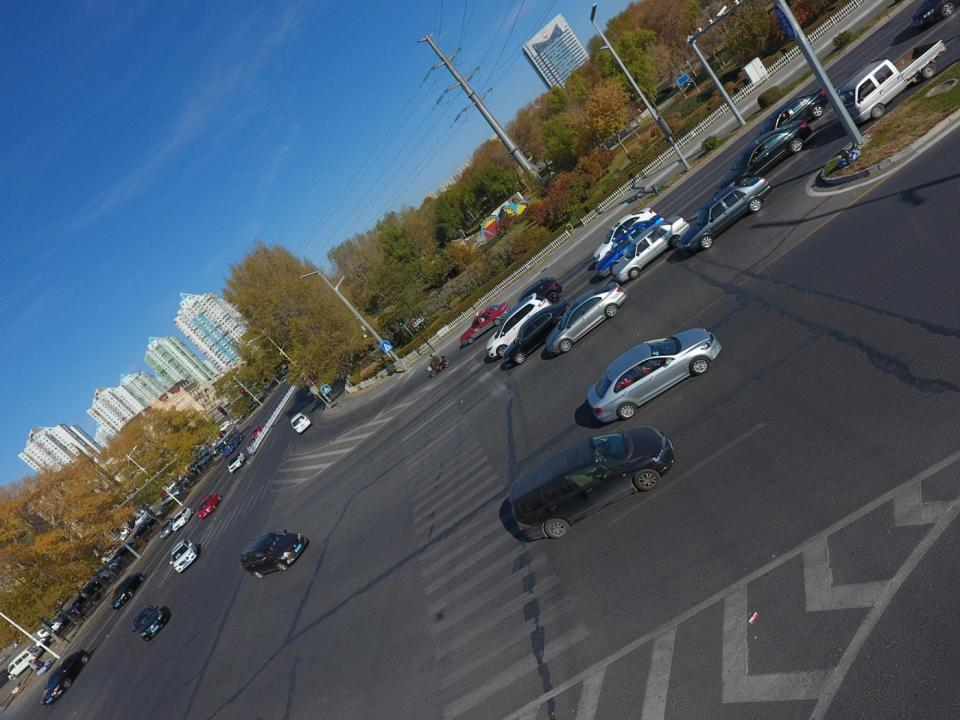bus: (214, 427, 244, 459), (302, 353, 326, 388), (189, 448, 214, 472)
car: (587, 328, 722, 422), (679, 176, 773, 253), (717, 120, 812, 194), (545, 281, 626, 353), (612, 217, 692, 282), (755, 89, 830, 149), (595, 215, 666, 277), (502, 300, 570, 364), (487, 294, 552, 357), (594, 206, 657, 262), (240, 531, 306, 579), (502, 276, 564, 324), (41, 648, 88, 708), (460, 301, 510, 345), (132, 603, 166, 642), (110, 573, 144, 610), (170, 538, 200, 573), (71, 578, 105, 606), (109, 538, 139, 562), (37, 618, 67, 640), (31, 632, 58, 654), (198, 493, 221, 518), (132, 518, 160, 538), (84, 569, 116, 586), (172, 506, 194, 530), (95, 558, 120, 579), (142, 509, 162, 528), (160, 518, 177, 539), (228, 453, 246, 472), (161, 490, 182, 505), (114, 528, 130, 542), (252, 424, 265, 439), (136, 511, 148, 526), (113, 534, 126, 547), (218, 422, 230, 432), (233, 415, 245, 424), (245, 402, 254, 412), (282, 376, 289, 382)
truck: (839, 40, 947, 123)
van: (507, 428, 676, 540), (8, 644, 40, 681), (291, 412, 311, 433), (170, 477, 191, 494)
